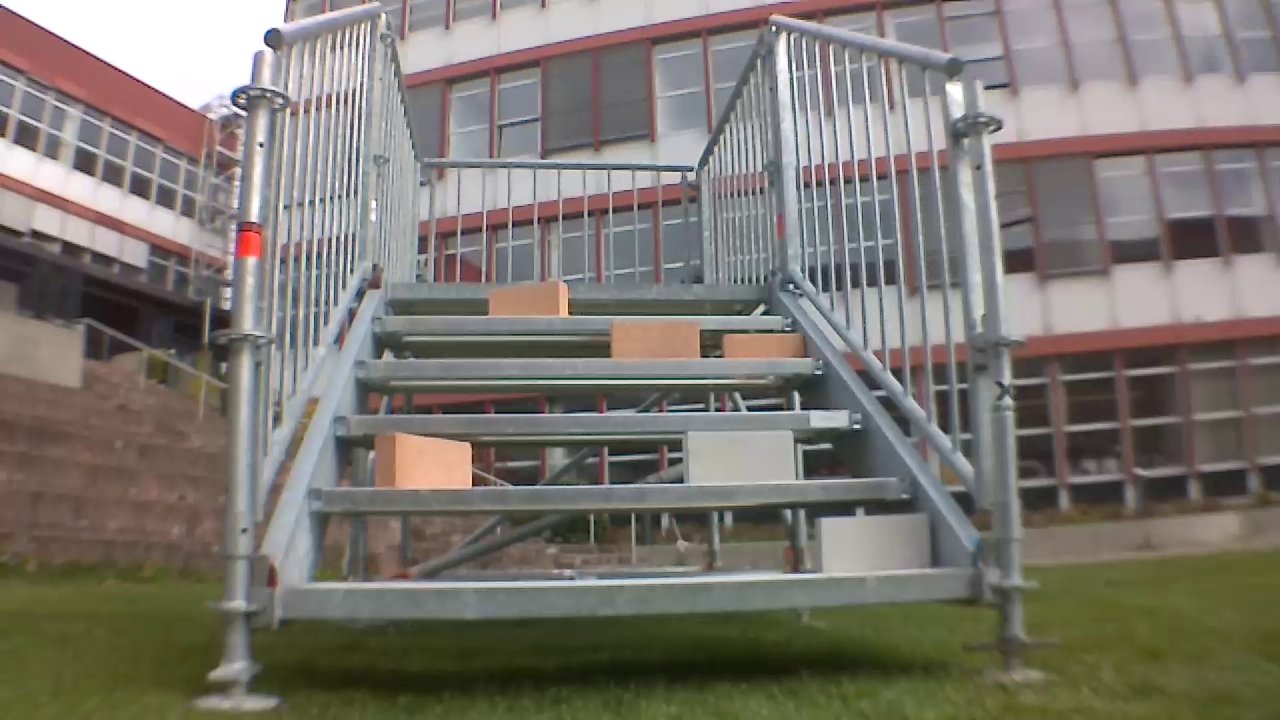brick: (814, 515, 931, 569), (681, 431, 794, 482), (373, 433, 469, 488), (612, 322, 697, 357), (487, 281, 568, 314), (722, 334, 803, 357)
edge: (275, 568, 971, 614), (309, 477, 910, 508), (332, 409, 864, 430), (353, 355, 828, 375), (385, 279, 767, 300), (373, 315, 797, 330)
stairs: (205, 2, 1051, 712)
steps: (270, 271, 980, 619)
